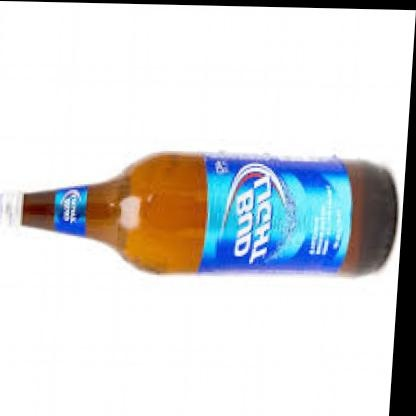trash: (22, 152, 396, 273)
